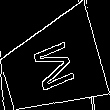M_W: (26, 36, 77, 96)
